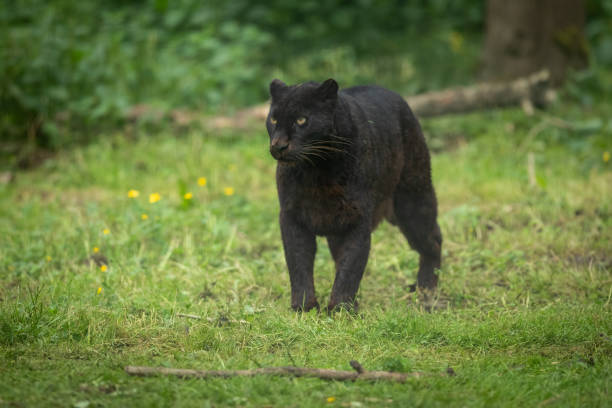panther: (257, 72, 351, 176)
